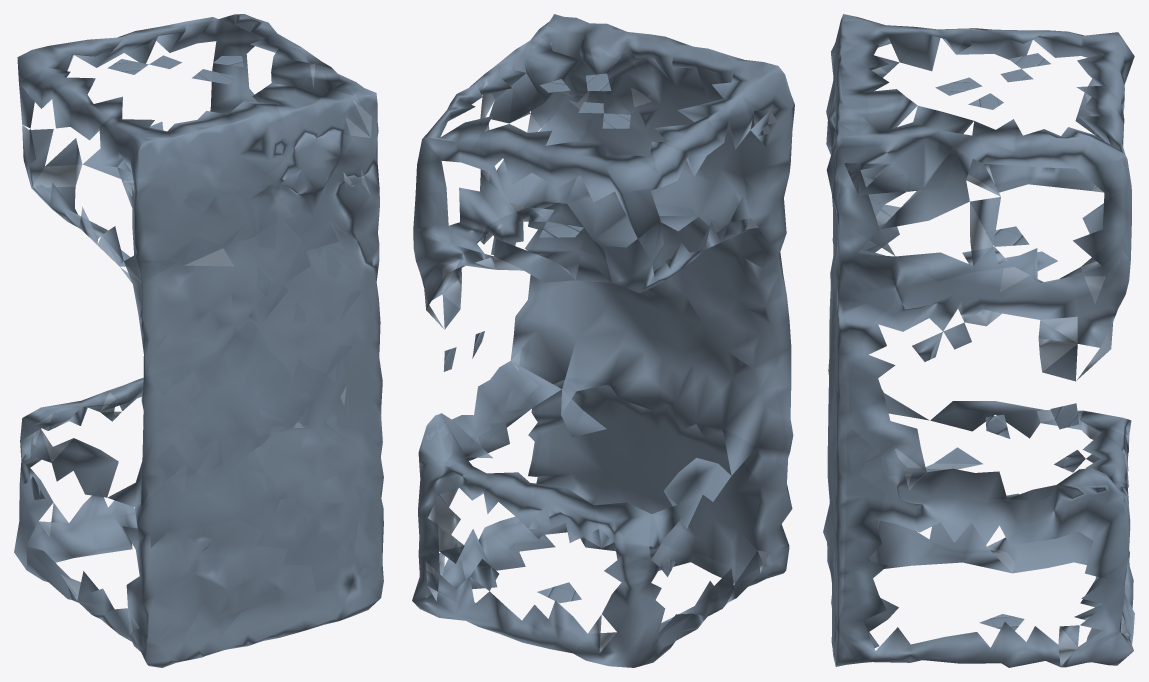
File: sample_400_recon.obj
The picture shows the model from 3 angles, left to right: view 1: azimuth 30°, elevation 25°; view 2: azimuth 150°, elevation 25°; view 3: azimuth 270°, elevation 25°; orthographic projection. The views are drawn at different scales.
Size of the model in its own units: 0.8033 by 1.61 by 0.8335.
